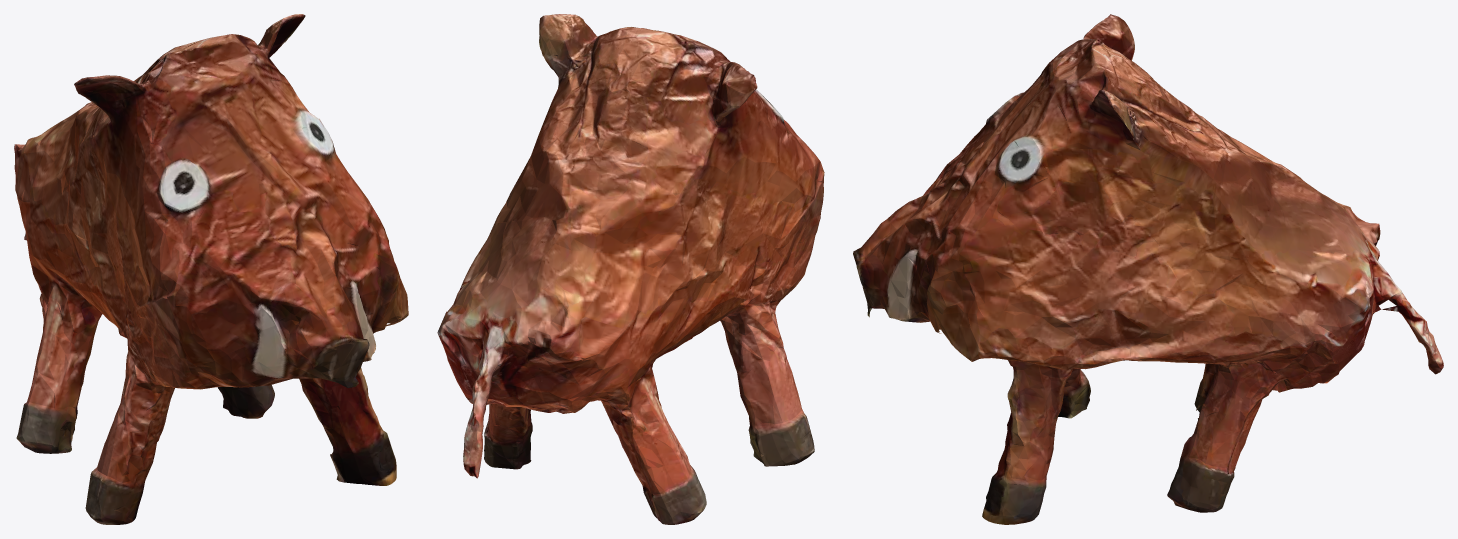
Rendered from inoshi1-opt.glb.
The picture shows the model from 3 angles, left to right: view 1: azimuth 30°, elevation 25°; view 2: azimuth 150°, elevation 25°; view 3: azimuth 270°, elevation 25°; orthographic projection. The views are drawn at different scales.
Parts seen in each view (by area): view 1: mesh; view 2: mesh; view 3: mesh.
Boxes of the visible parts, bbox=[...] form: mesh: bbox=[14, 14, 408, 524]; mesh: bbox=[437, 14, 824, 524]; mesh: bbox=[853, 14, 1443, 524].
Size of the model in its own units: 0.2824 by 0.4121 by 0.5416.
1 material, 1 textured.
